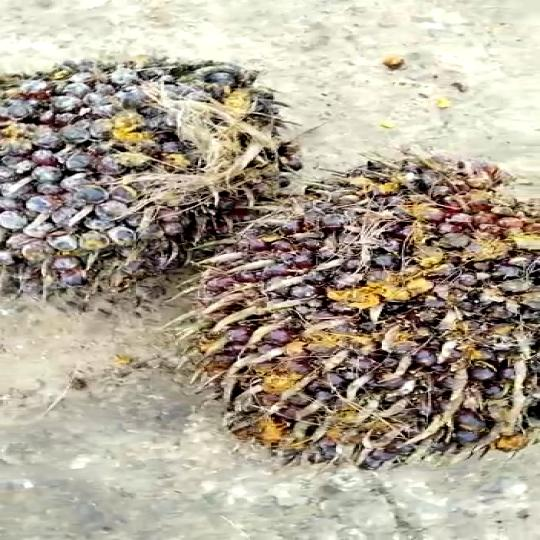kurang masak: (195, 145, 540, 465), (0, 39, 307, 298)
